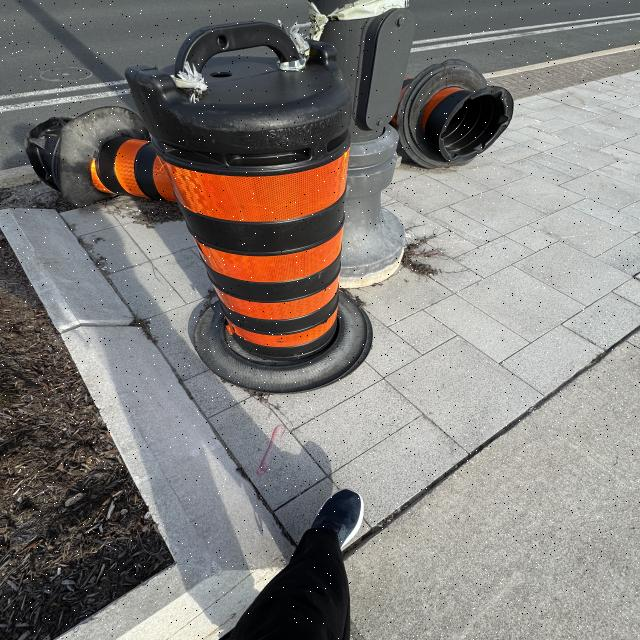Teraffic Barrel: (126, 22, 371, 392), (309, 0, 414, 287), (25, 106, 175, 206), (392, 60, 513, 168), (90, 136, 176, 201)
